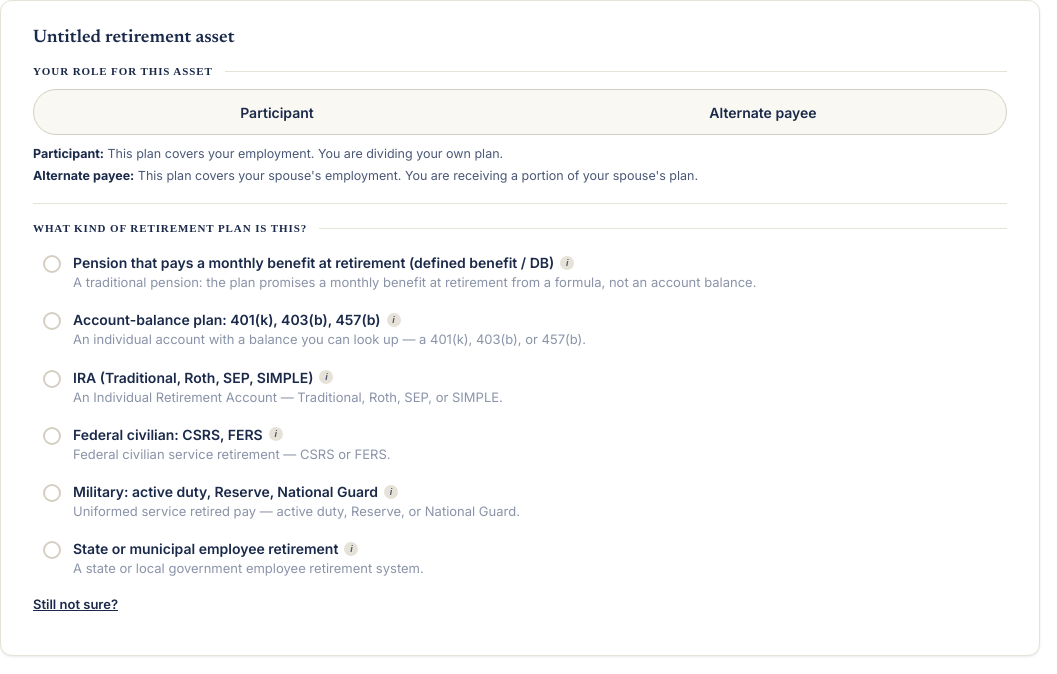
Scenario: QDROAssetCard — plan-type classifier (§8.3) › the IRA tooltip clarifies it is NOT a QDRO (§8.8.1)
The image size is (1057, 674).
Click the button with test id "wizard-radio-info-ira": [326, 377] box [319, 370, 333, 384]
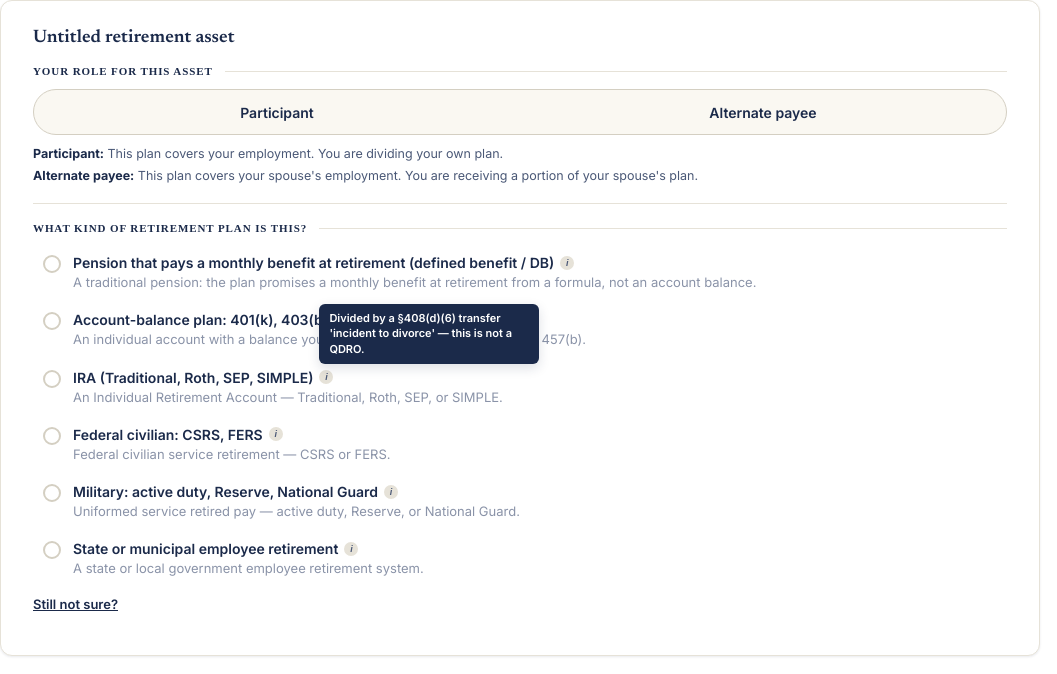
expect the tooltip with test id "wizard-radio-tooltip-ira" shows "not a QDRO": met, box [329, 311, 512, 356]
